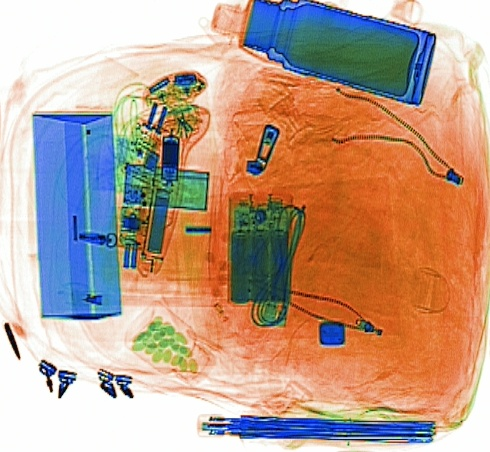powerbank: (224, 187, 299, 307)
